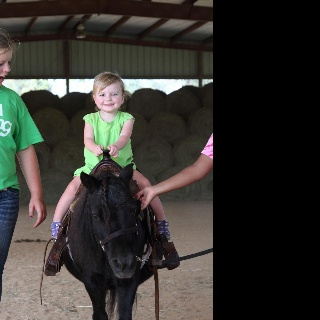without_mask: (96, 80, 124, 113)
